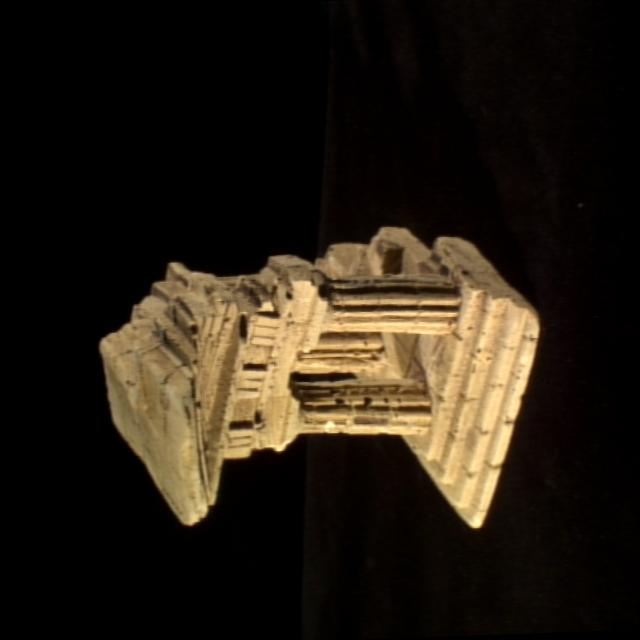Instance-Segmentation: (100, 227, 538, 526)
